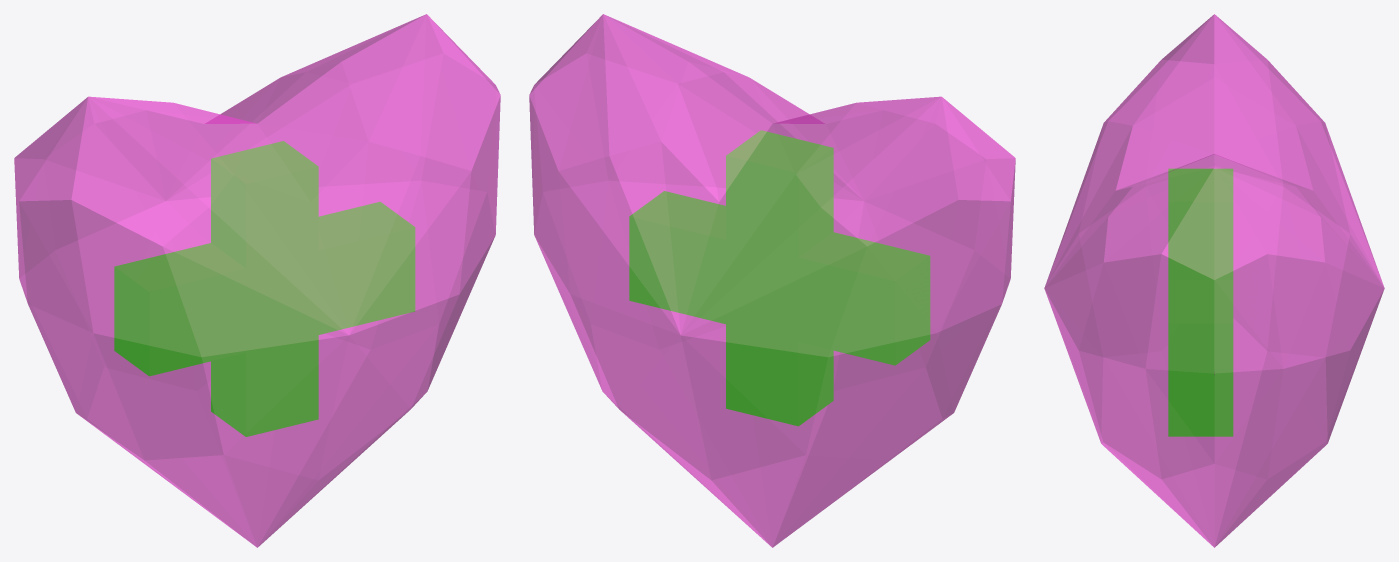
The model's file is AS_Heal.FBX.
The picture shows the model from 3 angles, left to right: view 1: azimuth 30°, elevation 25°; view 2: azimuth 150°, elevation 25°; view 3: azimuth 270°, elevation 25°; orthographic projection. The views are drawn at different scales.
Visible parts, largest first — view 1: Heart, Cross; view 2: Heart, Cross; view 3: Heart, Cross.
Part boxes in pixels (x1,y1,x2,y2): Heart: [14, 14, 500, 547]; Cross: [114, 141, 415, 436]; Heart: [529, 14, 1015, 547]; Cross: [629, 130, 930, 426]; Heart: [1044, 14, 1384, 547]; Cross: [1168, 168, 1233, 436].
Size of the model in its own units: 22.89 by 22.6 by 15.25.
